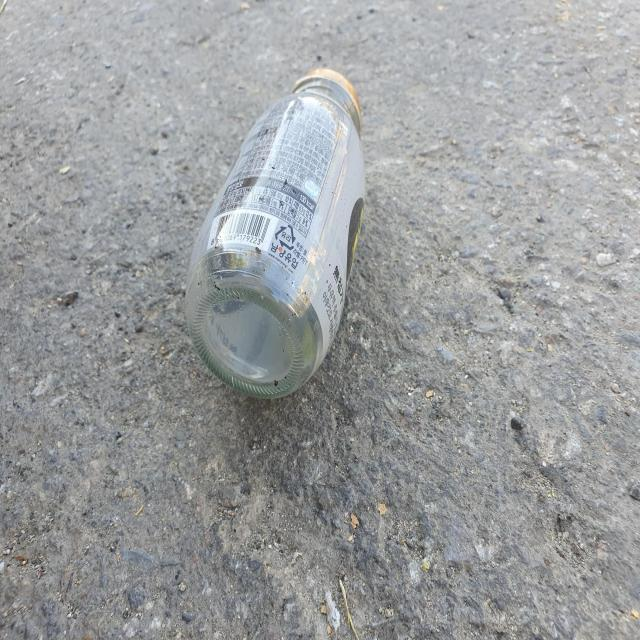glass: (186, 68, 365, 398)
